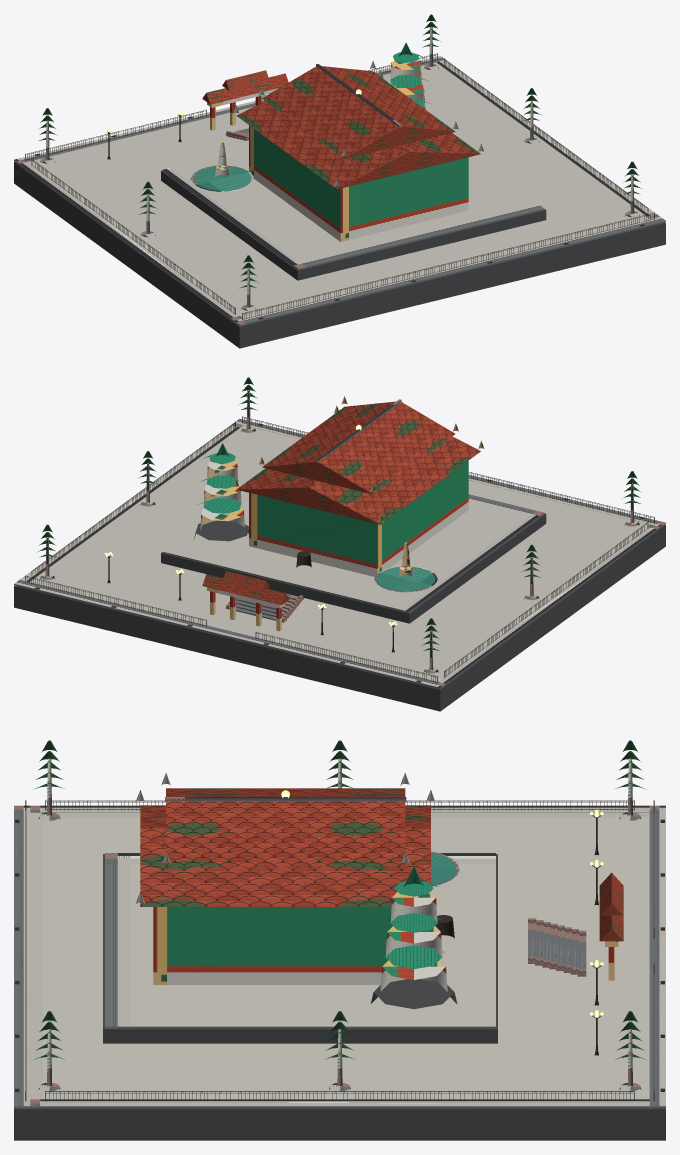
The model's file is ultra_lm_34_chua_linh_son.glb.
3 views of the same model, one above another, from view 1: azimuth 30°, elevation 25°; view 2: azimuth 150°, elevation 25°; view 3: azimuth 270°, elevation 25° (orthographic). The views are drawn at different scales.
Visible parts, largest first — view 1: Mesh_LinhSon_NguyenVanTroi_GraniteCurb_WormBrick_And_DragonS, Mesh_LinhSon_Copernicus_Minus3p5m_SplitStone_Skirt, Mesh_LinhSon_Curved_YinYang_Terracotta_Dragon_Roofs, Mesh_LinhSon_Imperial_Hue_Yellow_Sanctuary_And_TamQuan, Mesh_LinhSon_BronzeUrn_WroughtIron_And_5GlobeLamps, Mesh_LinhSon_AncientPine_And_Bodhi_Garden, Mesh_LinhSon_QuanAm_LotusPond_Water_Blend085, Mesh_LinhSon_Octagonal_3Tier_Stupa_Glazed_Emerald_Roof; view 2: Mesh_LinhSon_NguyenVanTroi_GraniteCurb_WormBrick_And_DragonS, Mesh_LinhSon_Copernicus_Minus3p5m_SplitStone_Skirt, Mesh_LinhSon_Curved_YinYang_Terracotta_Dragon_Roofs, Mesh_LinhSon_Imperial_Hue_Yellow_Sanctuary_And_TamQuan, Mesh_LinhSon_BronzeUrn_WroughtIron_And_5GlobeLamps, Mesh_LinhSon_AncientPine_And_Bodhi_Garden, Mesh_LinhSon_Octagonal_3Tier_Stupa_Glazed_Emerald_Roof, Mesh_LinhSon_QuanAm_LotusPond_Water_Blend085; view 3: Mesh_LinhSon_NguyenVanTroi_GraniteCurb_WormBrick_And_DragonS, Mesh_LinhSon_Curved_YinYang_Terracotta_Dragon_Roofs, Mesh_LinhSon_Copernicus_Minus3p5m_SplitStone_Skirt, Mesh_LinhSon_Imperial_Hue_Yellow_Sanctuary_And_TamQuan, Mesh_LinhSon_BronzeUrn_WroughtIron_And_5GlobeLamps, Mesh_LinhSon_AncientPine_And_Bodhi_Garden, Mesh_LinhSon_Octagonal_3Tier_Stupa_Glazed_Emerald_Roof, Mesh_LinhSon_QuanAm_LotusPond_Water_Blend085.
Part boxes in pixels (x1,y1,x2,y2): Mesh_LinhSon_NguyenVanTroi_GraniteCurb_WormBrick_And_DragonS: (14,27,665,325); Mesh_LinhSon_Copernicus_Minus3p5m_SplitStone_Skirt: (14,161,665,348); Mesh_LinhSon_Curved_YinYang_Terracotta_Dragon_Roofs: (202,66,480,189); Mesh_LinhSon_Imperial_Hue_Yellow_Sanctuary_And_TamQuan: (207,60,483,241); Mesh_LinhSon_BronzeUrn_WroughtIron_And_5GlobeLamps: (25,53,654,320); Mesh_LinhSon_AncientPine_And_Bodhi_Garden: (38,14,641,288); Mesh_LinhSon_QuanAm_LotusPond_Water_Blend085: (193,166,251,190); Mesh_LinhSon_Octagonal_3Tier_Stupa_Glazed_Emerald_Roof: (390,42,431,107); Mesh_LinhSon_NguyenVanTroi_GraniteCurb_WormBrick_And_DragonS: (14,390,665,688); Mesh_LinhSon_Copernicus_Minus3p5m_SplitStone_Skirt: (14,513,665,711); Mesh_LinhSon_Curved_YinYang_Terracotta_Dragon_Roofs: (202,401,480,605); Mesh_LinhSon_Imperial_Hue_Yellow_Sanctuary_And_TamQuan: (200,396,484,631); Mesh_LinhSon_BronzeUrn_WroughtIron_And_5GlobeLamps: (25,416,654,683); Mesh_LinhSon_AncientPine_And_Bodhi_Garden: (38,377,641,651); Mesh_LinhSon_Octagonal_3Tier_Stupa_Glazed_Emerald_Roof: (197,443,241,513); Mesh_LinhSon_QuanAm_LotusPond_Water_Blend085: (377,566,435,591); Mesh_LinhSon_NguyenVanTroi_GraniteCurb_WormBrick_And_DragonS: (14,758,665,1108); Mesh_LinhSon_Curved_YinYang_Terracotta_Dragon_Roofs: (140,788,623,941); Mesh_LinhSon_Copernicus_Minus3p5m_SplitStone_Skirt: (14,854,665,1140); Mesh_LinhSon_Imperial_Hue_Yellow_Sanctuary_And_TamQuan: (135,773,618,991); Mesh_LinhSon_BronzeUrn_WroughtIron_And_5GlobeLamps: (15,800,664,1101); Mesh_LinhSon_AncientPine_And_Bodhi_Garden: (33,740,646,1059); Mesh_LinhSon_Octagonal_3Tier_Stupa_Glazed_Emerald_Roof: (383,866,444,969); Mesh_LinhSon_QuanAm_LotusPond_Water_Blend085: (431,852,456,884).
Bounding box in the file's own units: 72 × 22.3 × 66.
Materials: 9 (4 with a texture image).
